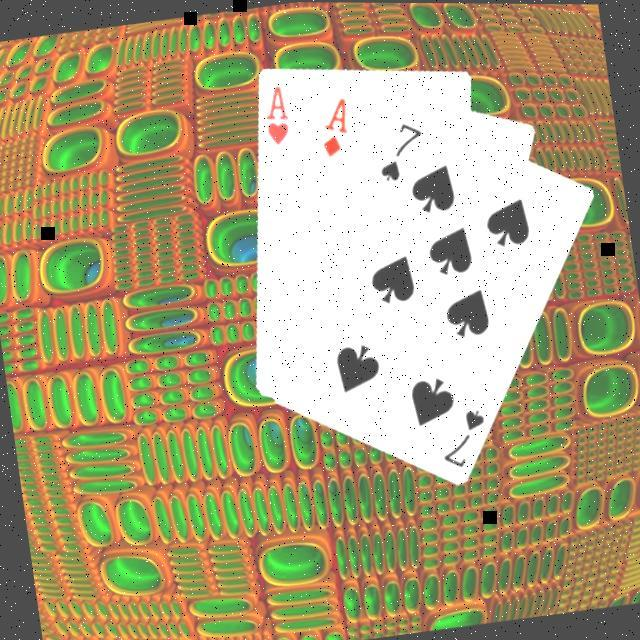7S: (370, 114, 432, 184), (434, 402, 496, 472)
AD: (312, 92, 358, 160)
AH: (257, 78, 296, 148)
